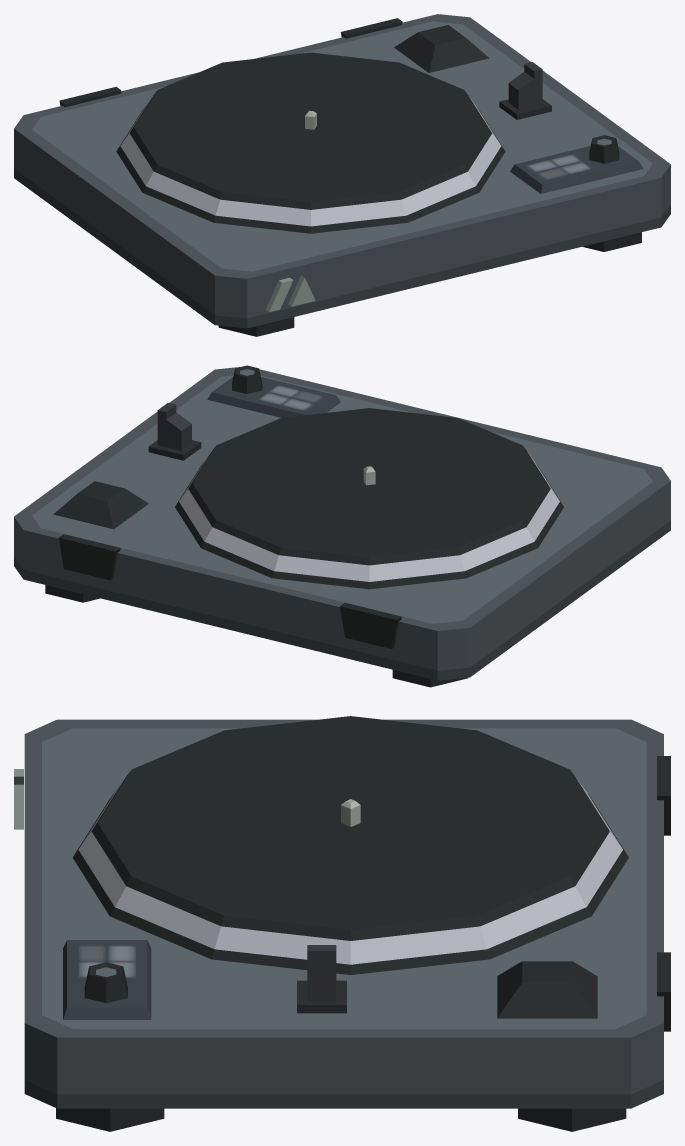
File: SM_Prop_Music_Turntable_01.obj
The picture shows the model from 3 angles, top to bottom: view 1: azimuth 30°, elevation 25°; view 2: azimuth 150°, elevation 25°; view 3: azimuth 270°, elevation 25°; orthographic projection. The views are drawn at different scales.
Visible parts, largest first — view 1: SM_Prop_Music_Turntable_01_0; view 2: SM_Prop_Music_Turntable_01_0; view 3: SM_Prop_Music_Turntable_01_0.
Part boxes in pixels (x1,y1,x2,y2): SM_Prop_Music_Turntable_01_0: [14, 14, 670, 336]; SM_Prop_Music_Turntable_01_0: [14, 365, 670, 687]; SM_Prop_Music_Turntable_01_0: [14, 716, 670, 1131].
Size of the model in its own units: 0.7107 by 0.1666 by 0.6202.
1 material, 1 textured.
